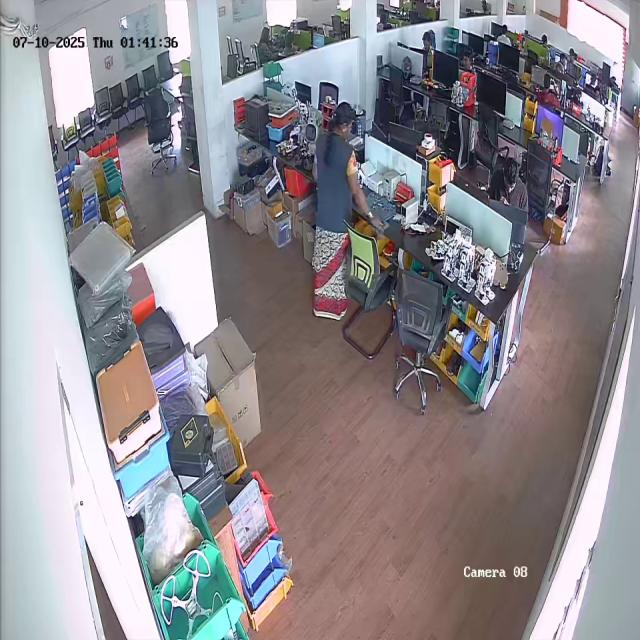person: (304, 102, 360, 323)
